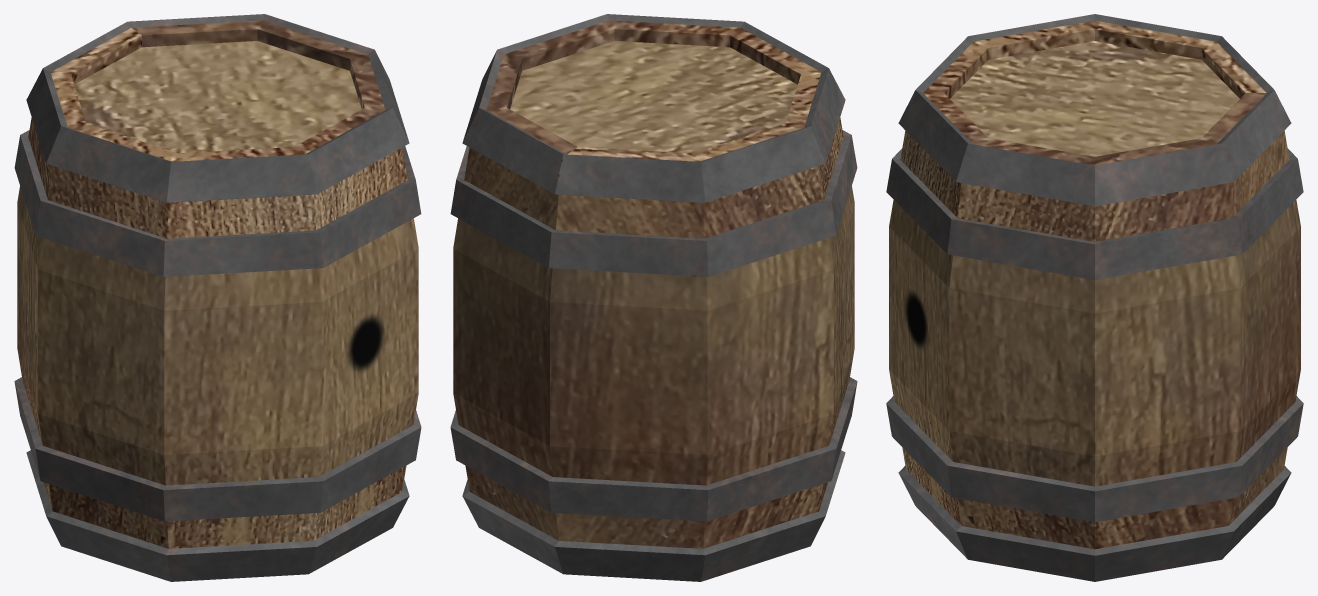
File: Barrel.fbx
3 renders of one model, left to right at view 1: azimuth 30°, elevation 25°; view 2: azimuth 150°, elevation 25°; view 3: azimuth 270°, elevation 25°, orthographic.
Parts seen in each view (by area): view 1: Barrel; view 2: Barrel; view 3: Barrel.
Part boxes in pixels (<box>): Barrel: <box>14,14,421,581</box>; Barrel: <box>450,14,857,581</box>; Barrel: <box>886,14,1303,581</box>.
Size of the model in its own units: 2.43 by 2.67 by 2.43.
Materials: 1 (1 with a texture image).
